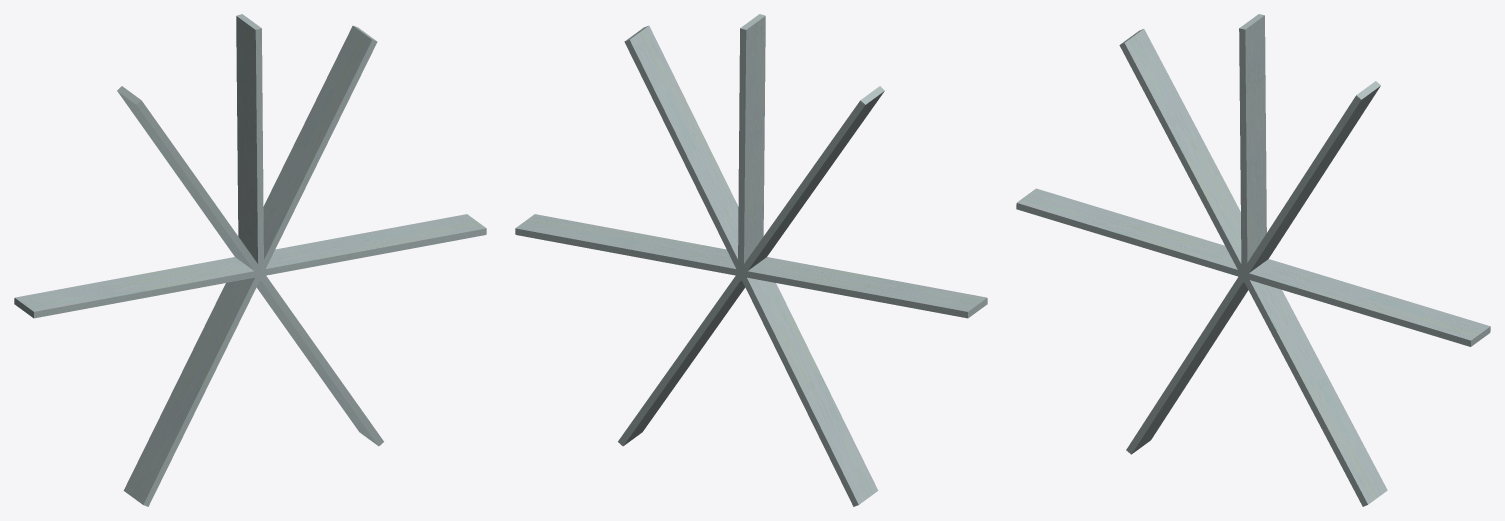
The model's file is pj002-geode.glb.
3 views of the same model, side by side, from view 1: azimuth 30°, elevation 25°; view 2: azimuth 150°, elevation 25°; view 3: azimuth 330°, elevation 25° (orthographic).
Visible parts, largest first — view 1: Node; view 2: Node; view 3: Node.
Part boxes in pixels (x1,y1,x2,y2): Node: (14,14,486,506); Node: (515,14,987,506); Node: (1016,14,1490,506).
Size of the model in its own units: 1.58 by 1.5 by 0.1181.
1 material, 1 textured.
